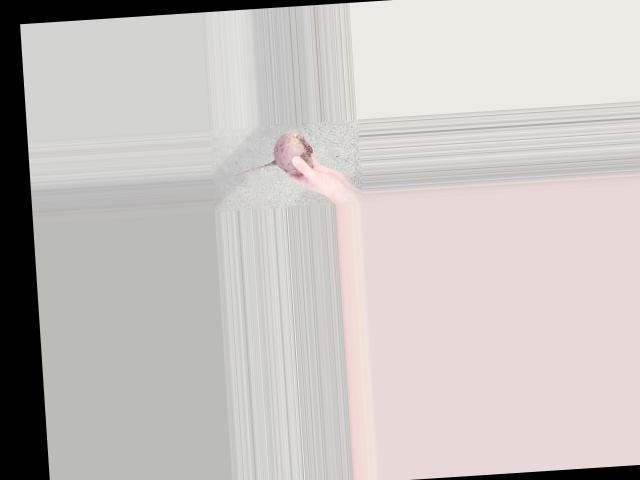beet: (233, 129, 313, 177)
